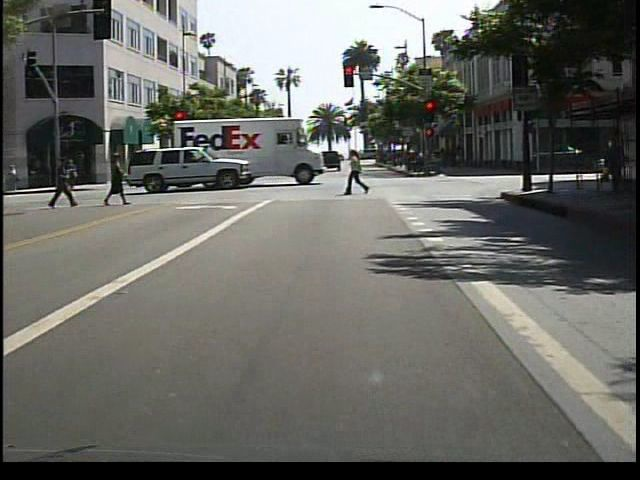person: (598, 135, 628, 199), (104, 149, 130, 210), (347, 147, 373, 198), (53, 156, 77, 209)
